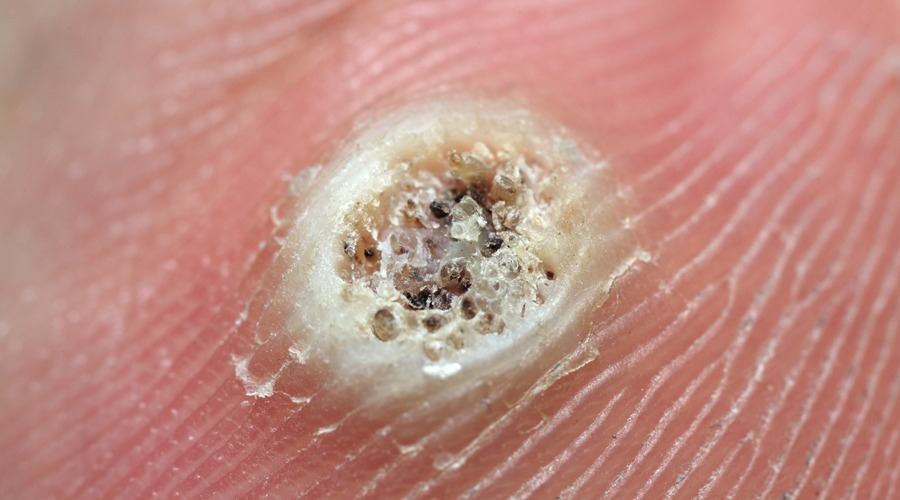Warts: (206, 64, 691, 462)
